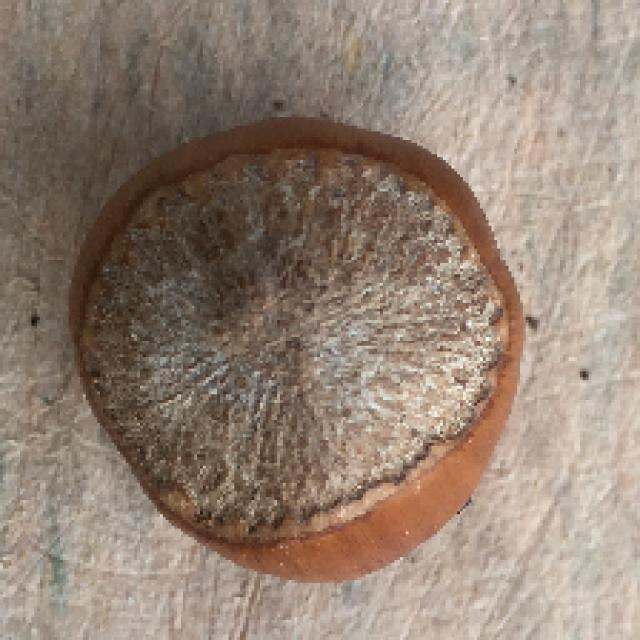qualityHazelnut: (59, 111, 540, 578)
